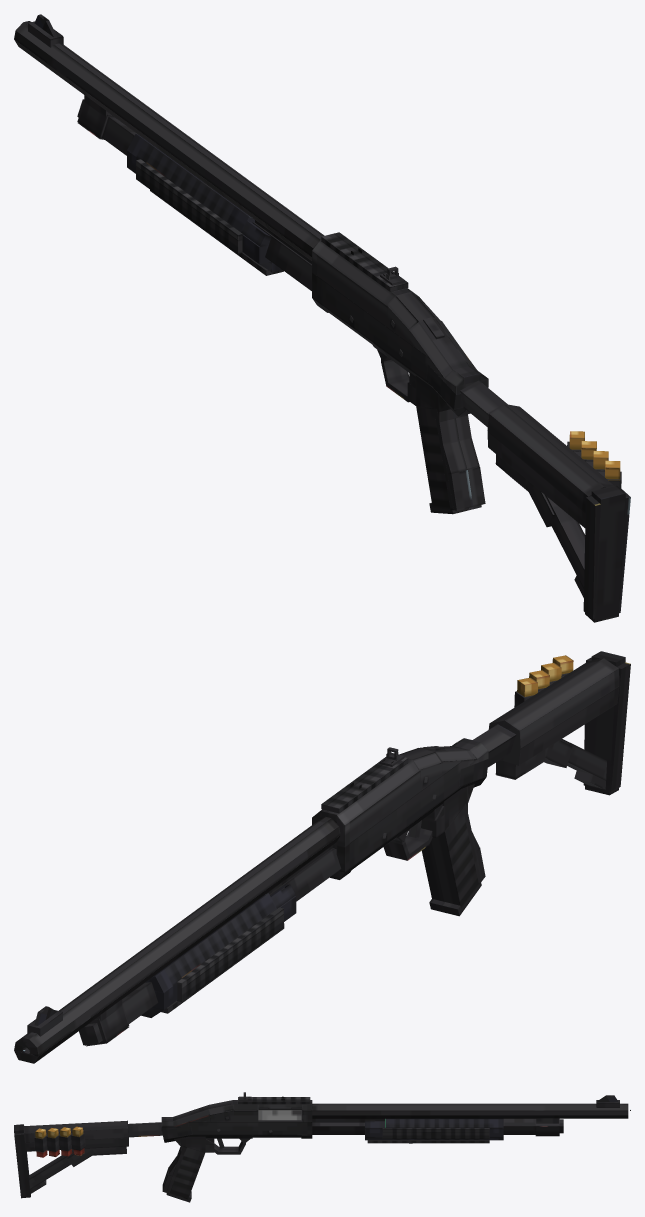
3 renders of one model, top to bottom at view 1: azimuth 30°, elevation 25°; view 2: azimuth 150°, elevation 25°; view 3: azimuth 270°, elevation 25°, orthographic. The views are drawn at different scales.
Visible parts, largest first — view 1: gun, stock, pump, ironsight; view 2: gun, stock, pump, ironsight; view 3: gun, stock, pump, action, ironsight.
Boxes of the visible parts, left/top/right/bottom form: gun: left=14, top=21, right=488, bottom=514; stock: left=460, top=380, right=630, bottom=622; pump: left=127, top=134, right=283, bottom=275; ironsight: left=28, top=14, right=405, bottom=287; gun: left=14, top=738, right=488, bottom=1063; stock: left=473, top=651, right=630, bottom=795; pump: left=141, top=884, right=296, bottom=1017; ironsight: left=27, top=752, right=404, bottom=1036; gun: left=161, top=1097, right=628, bottom=1202; stock: left=14, top=1120, right=162, bottom=1198; pump: left=365, top=1118, right=503, bottom=1143; action: left=258, top=1110, right=301, bottom=1120; ironsight: left=239, top=1095, right=619, bottom=1107.
Bounding box in the file's own units: 44.7 × 147 × 780.
